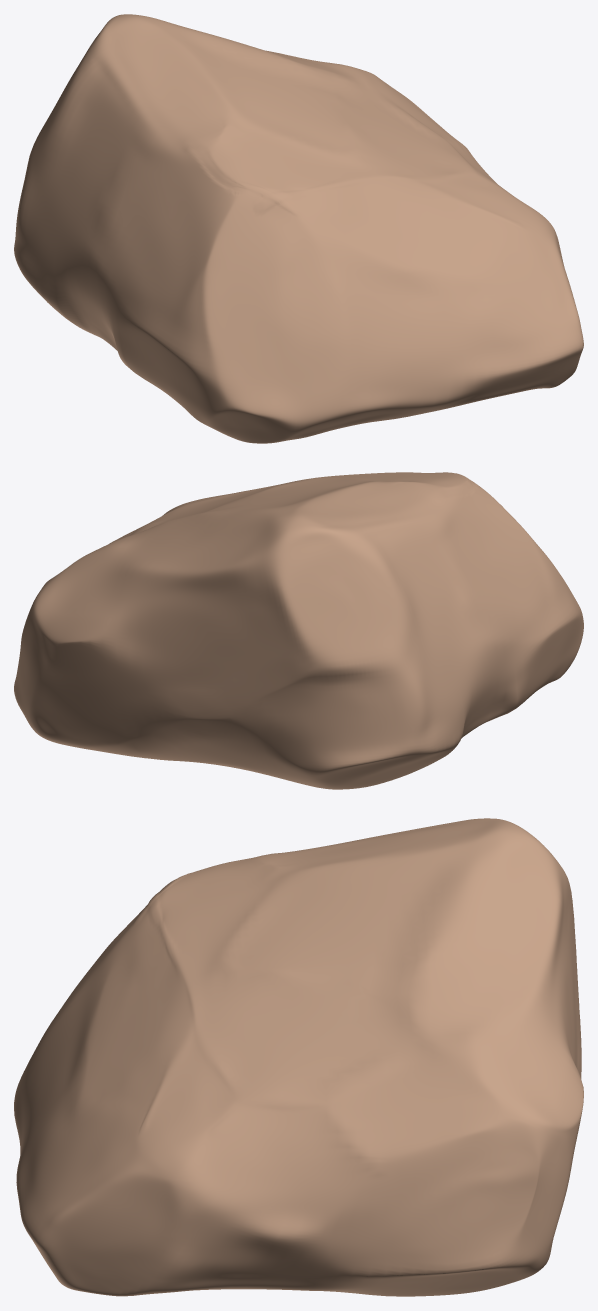
The model's file is Rock5_HP.FBX.
3 views of the same model, one above another, from view 1: azimuth 30°, elevation 25°; view 2: azimuth 150°, elevation 25°; view 3: azimuth 270°, elevation 25° (orthographic). The views are drawn at different scales.
Visible parts, largest first — view 1: Box005; view 2: Box005; view 3: Box005.
Boxes of the visible parts, x1,y1,x2,y2 form: Box005: (14,14,583,443); Box005: (14,472,583,789); Box005: (14,818,583,1296).
Bounding box in the file's own units: 143 × 94.89 × 146.
